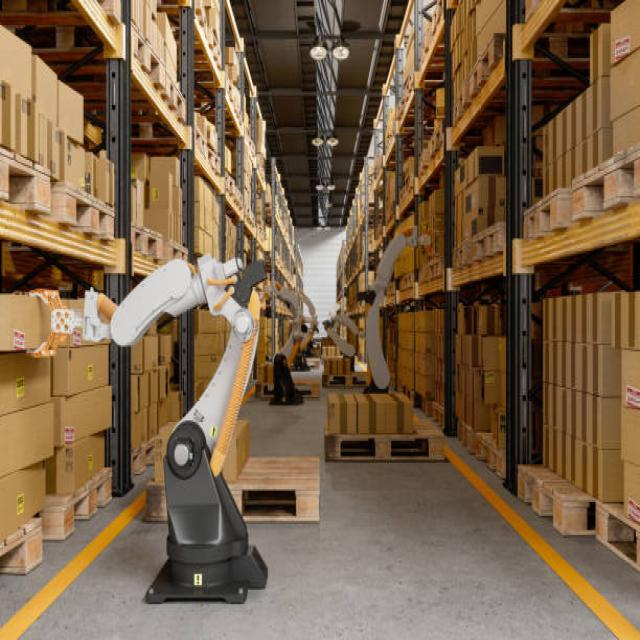Robotic-arm: (39, 236, 272, 604)
